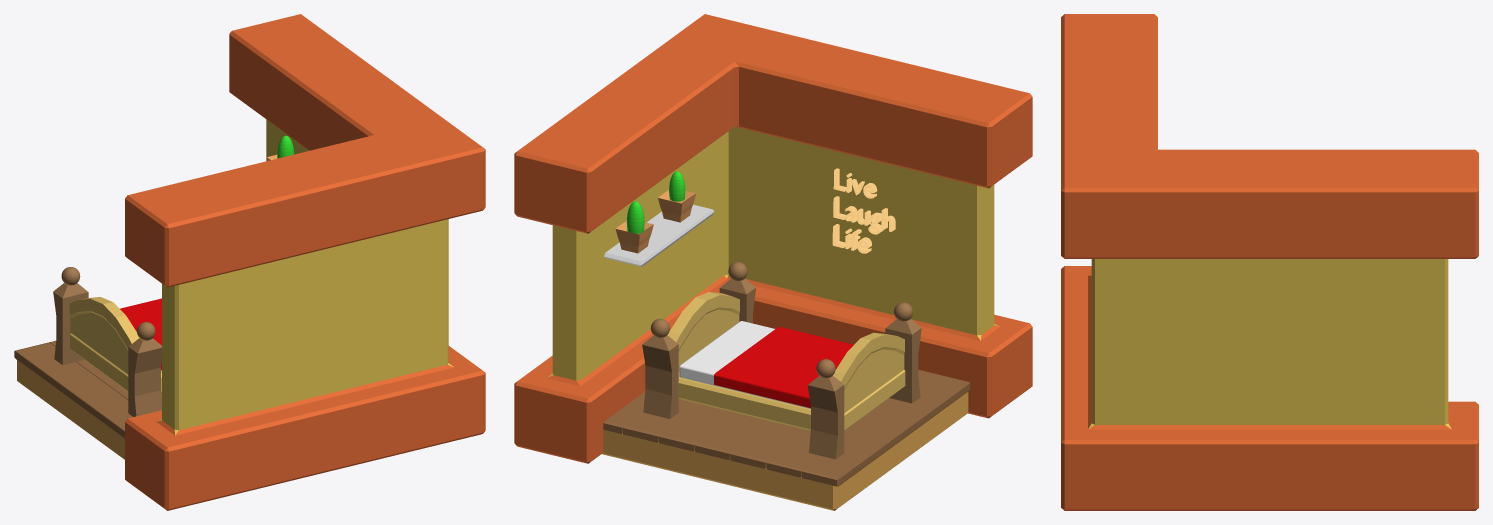
The model's file is bed.glb.
3 renders of one model, left to right at view 1: azimuth 30°, elevation 25°; view 2: azimuth 150°, elevation 25°; view 3: azimuth 270°, elevation 25°, orthographic. The views are drawn at different scales.
Parts seen in each view (by area): view 1: Cube, Plane.004, Plane.001, Plane.003, Plane, Plane.002, Plane.005; view 2: Cube, Plane.001, Plane.004, Plane, Plane.005, Plane.003, Plane.002, Text, Plane.007, Cube.001, Cube.002; view 3: Cube.
Boxes of the visible parts, x1,y1,x2,y2 form: Cube: (125, 14, 485, 510); Plane.004: (53, 267, 161, 416); Plane.001: (14, 340, 161, 438); Plane.003: (69, 297, 139, 374); Plane: (17, 360, 124, 459); Plane.002: (70, 333, 161, 392); Plane.005: (120, 298, 161, 370); Cube: (514, 14, 1032, 463); Plane.001: (603, 369, 969, 486); Plane.004: (642, 262, 921, 459); Plane: (602, 392, 968, 510); Plane.005: (679, 321, 853, 408); Plane.003: (667, 292, 904, 412); Plane.002: (678, 370, 905, 430); Text: (832, 168, 895, 253); Plane.007: (604, 204, 714, 266); Cube.001: (658, 190, 695, 222); Cube.002: (615, 220, 653, 253); Cube: (1061, 14, 1478, 510).
Bounding box in the file's own units: 2.34 × 2 × 2.34.
